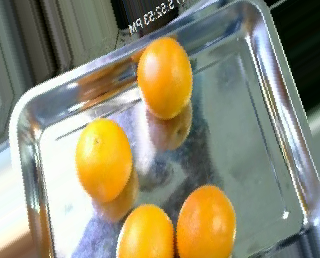Orange: (136, 35, 194, 120), (75, 119, 133, 202), (174, 183, 237, 258)
